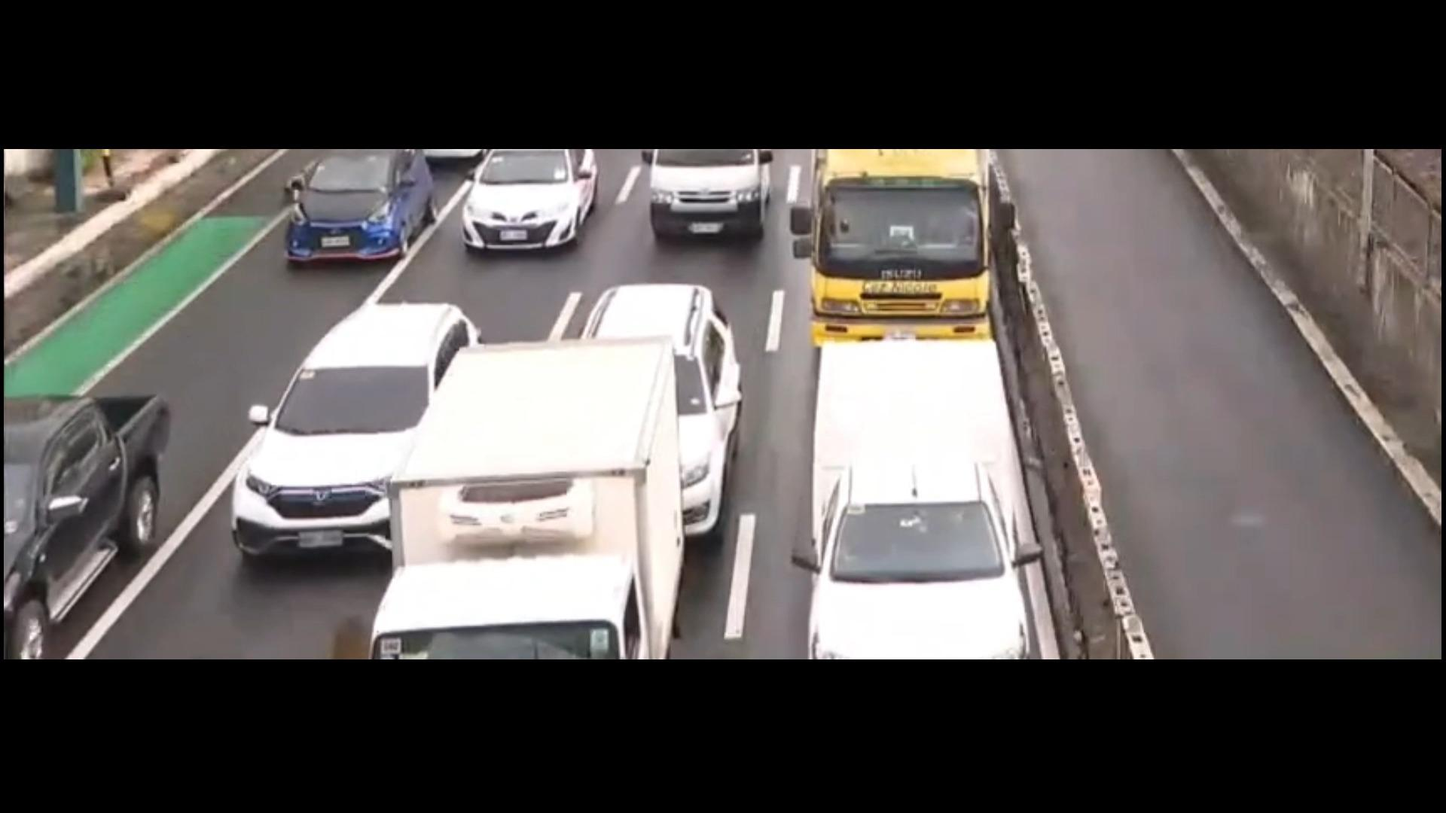Pickup: (0, 352, 187, 670)
SUV: (215, 292, 516, 568), (552, 273, 746, 548)
Sedan: (247, 153, 450, 271), (465, 149, 614, 265)
Truck: (353, 324, 712, 661), (807, 330, 1028, 661), (781, 155, 1030, 371)
